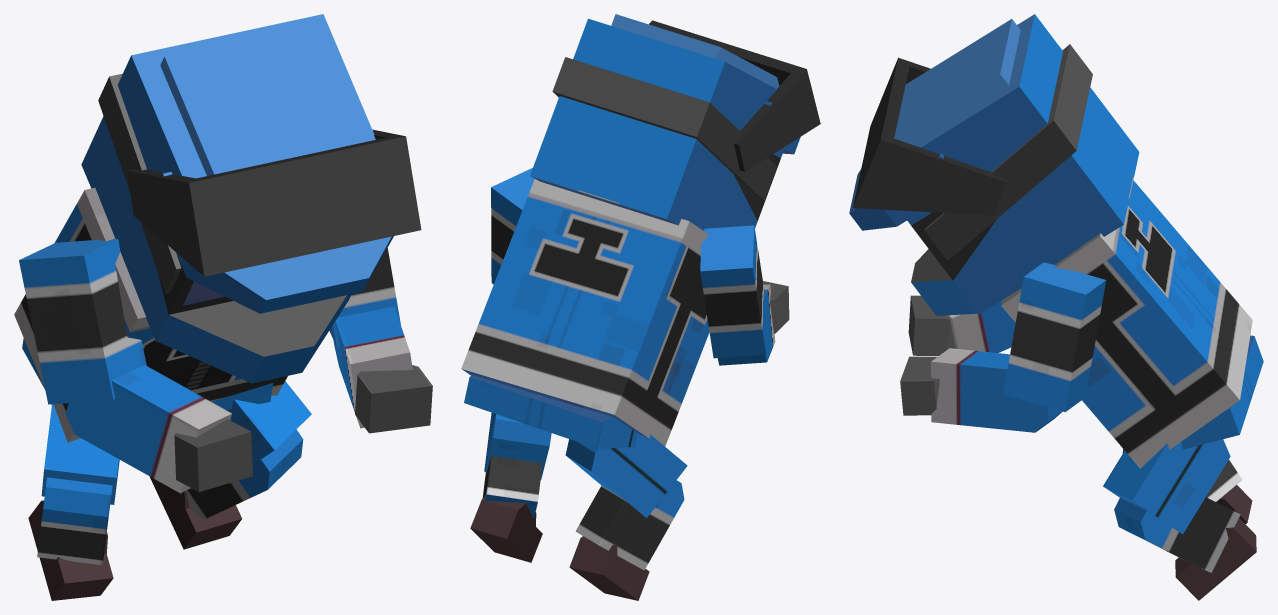
The model's file is SportsBike.fbx.
3 views of the same model, side by side, from view 1: azimuth 30°, elevation 25°; view 2: azimuth 150°, elevation 25°; view 3: azimuth 270°, elevation 25° (orthographic). The views are drawn at different scales.
Parts seen in each view (by area): view 1: Motorcross_Helmet, Racing_Helmet_Open, UpperArm_Right, LowerArm_Right, Body, LowerLeg_Right, LowerArm_Left, Hand_Left, Hand_Right, UpperLeg_Right, LowerLeg_Left, UpperLeg_Left (+5 smaller); view 2: Body, Motorcross_Helmet, Racing_Helmet_Open, UpperArm_Right, LowerBody, UpperLeg_Right, LowerLeg_Right, Foot_Left, Foot_Right, UpperArm_Left, LowerLeg_Left, UpperLeg_Left (+3 smaller); view 3: Body, Motorcross_Helmet, Racing_Helmet, UpperArm_Left, Racing_Helmet_Open, LowerArm_Left, UpperLeg_Left, LowerLeg_Left, Foot_Left, LowerArm_Right, LowerBody, Hand_Right (+3 smaller).
Boxes of the visible parts, x1,y1,x2,y2 form: Motorcross_Helmet: (98,14,393,383); Racing_Helmet_Open: (81,56,421,341); UpperArm_Right: (19,238,146,404); LowerArm_Right: (65,365,231,493); Body: (14,187,287,442); LowerLeg_Right: (37,477,112,565); LowerArm_Left: (333,306,412,428); Hand_Left: (355,365,432,433); Hand_Right: (174,419,252,491); UpperLeg_Right: (41,404,119,504); LowerLeg_Left: (180,429,303,519); UpperLeg_Left: (226,381,311,464); Body: (461,179,709,446); Motorcross_Helmet: (530,14,800,217); Racing_Helmet_Open: (649,20,820,230); UpperArm_Right: (700,225,767,358); LowerBody: (464,375,637,448); UpperLeg_Right: (565,433,687,517); LowerLeg_Right: (575,480,684,570); Foot_Left: (470,496,542,562); Foot_Right: (569,536,649,600); UpperArm_Left: (491,168,534,284); LowerLeg_Left: (482,456,542,518); UpperLeg_Left: (484,412,551,479); Body: (1001,180,1252,468); Motorcross_Helmet: (849,14,1138,315); Racing_Helmet: (907,88,1139,314); UpperArm_Left: (1003,262,1106,412); Racing_Helmet_Open: (853,57,1138,221); LowerArm_Left: (931,348,1062,432); UpperLeg_Left: (1103,439,1230,534); LowerLeg_Left: (1114,497,1240,572); Foot_Left: (1175,518,1256,600); LowerArm_Right: (946,300,1015,352); LowerBody: (1127,335,1263,462); Hand_Right: (908,295,955,355).
Size of the model in its own units: 153 by 261 by 184.
1 material, 1 textured.
